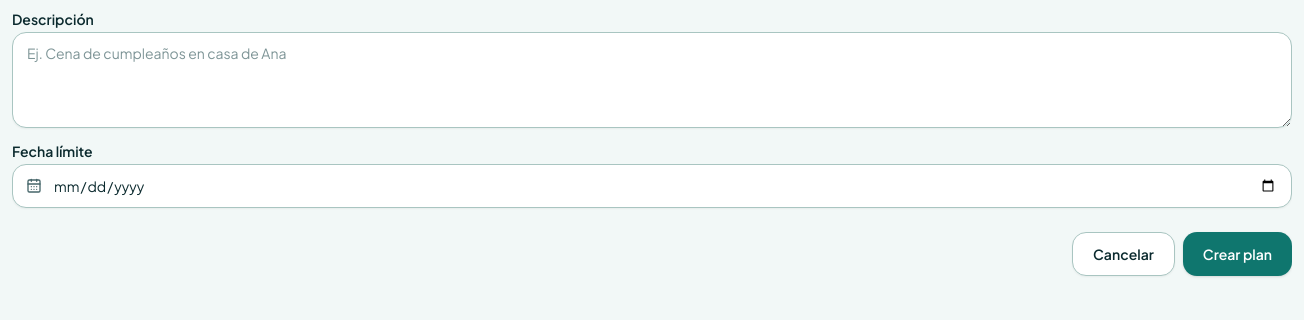
PlanForm › keeps typed values and shows server field errors on failure
Type "Cena" into the text box labelled "Descripción".
click(652, 80); type("Cena")  # box [12, 32, 1292, 128]
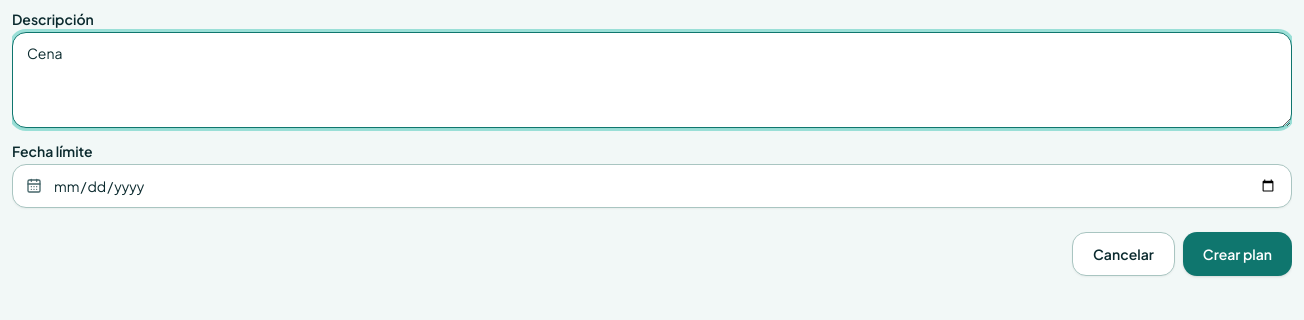
Type "2026-12-24" into the date field labelled "Fecha límite".
click(652, 186); type("2026-12-24")  # box [12, 164, 1292, 208]
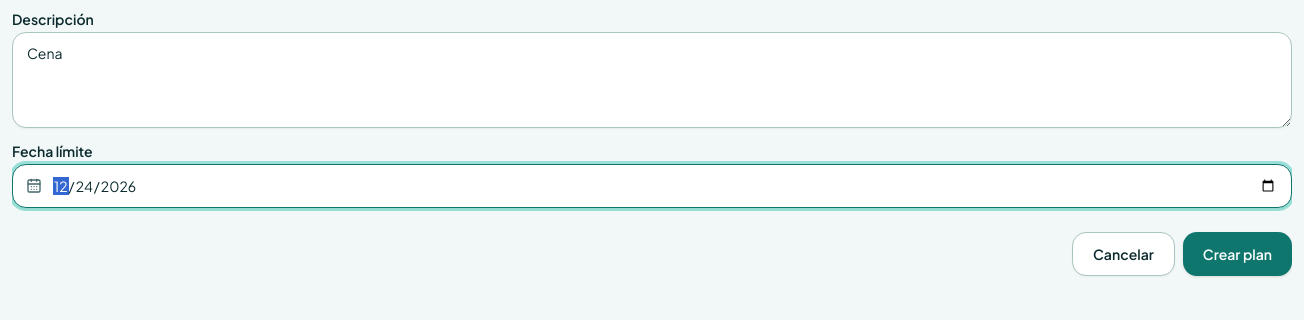
Click the button "Crear plan".
click(1237, 254)  # box [1183, 232, 1292, 276]
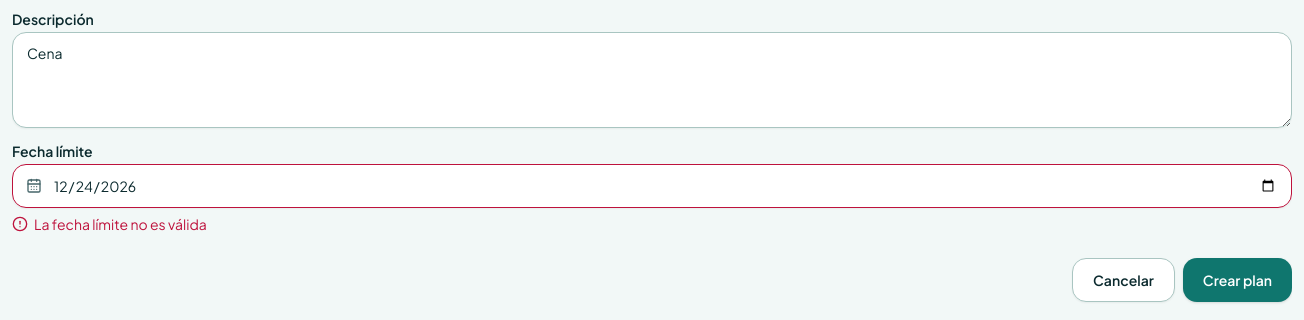
Now the text "La fecha límite no es válida" is shown, box [12, 215, 207, 233]
